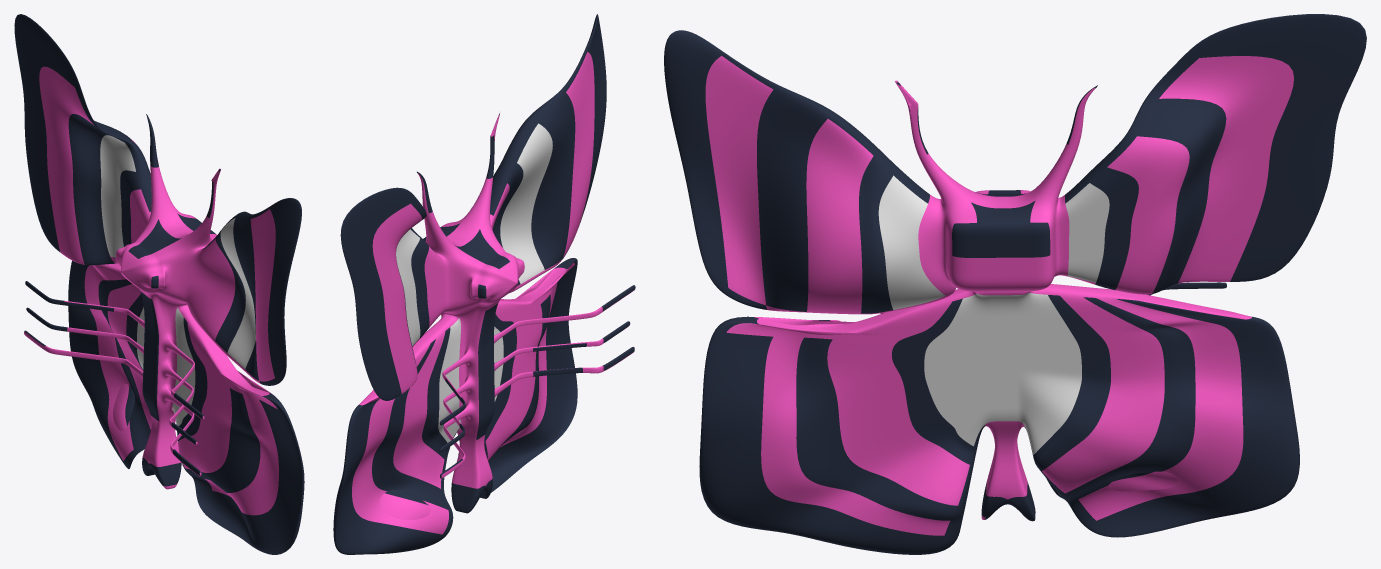
The model's file is Butterfly4.fbx.
3 renders of one model, left to right at view 1: azimuth 30°, elevation 25°; view 2: azimuth 150°, elevation 25°; view 3: azimuth 270°, elevation 25°, orthographic. The views are drawn at different scales.
Parts seen in each view (by area): view 1: Cube; view 2: Cube; view 3: Cube.
Part boxes in pixels (<box>): Cube: <box>14,14,304,554</box>; Cube: <box>333,14,635,554</box>; Cube: <box>664,14,1366,554</box>.
Bounding box in the file's own units: 42.09 × 146 × 179.
